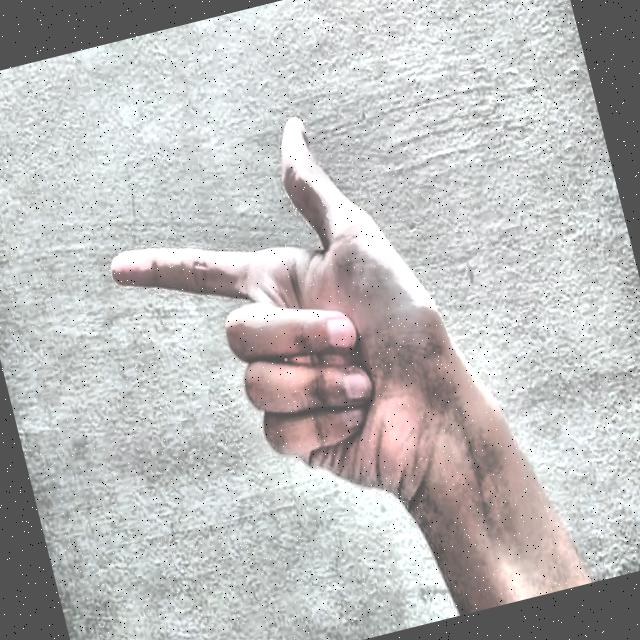Tho: (53, 47, 559, 576)
